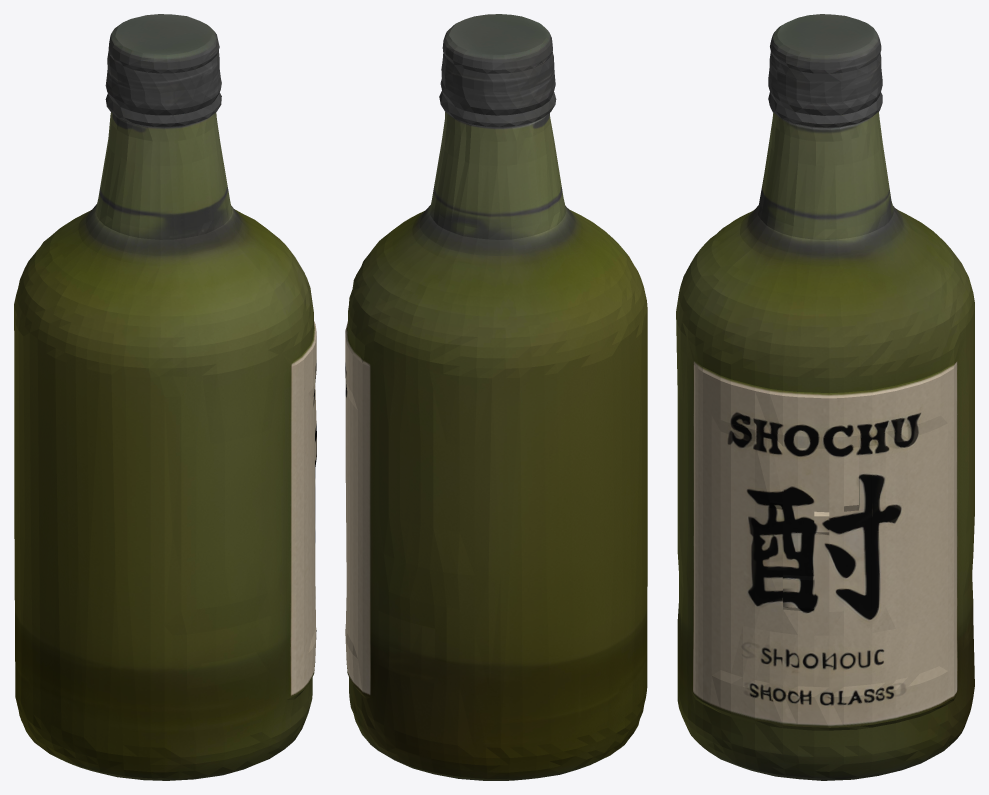
File: shouchuu.glb
3 renders of one model, left to right at view 1: azimuth 30°, elevation 25°; view 2: azimuth 150°, elevation 25°; view 3: azimuth 270°, elevation 25°, orthographic.
Visible parts, largest first — view 1: tripo_node_9f01ad13-f665-4d4b-8017-cf28e2d1caa4; view 2: tripo_node_9f01ad13-f665-4d4b-8017-cf28e2d1caa4; view 3: tripo_node_9f01ad13-f665-4d4b-8017-cf28e2d1caa4.
Boxes of the visible parts, x1=… form: tripo_node_9f01ad13-f665-4d4b-8017-cf28e2d1caa4: x1=14, y1=14, x2=316, y2=780; tripo_node_9f01ad13-f665-4d4b-8017-cf28e2d1caa4: x1=345, y1=14, x2=647, y2=780; tripo_node_9f01ad13-f665-4d4b-8017-cf28e2d1caa4: x1=676, y1=14, x2=974, y2=780.
Bounding box in the file's own units: 0.373 × 0.9472 × 0.3676.
Materials: 1 (1 with a texture image).
